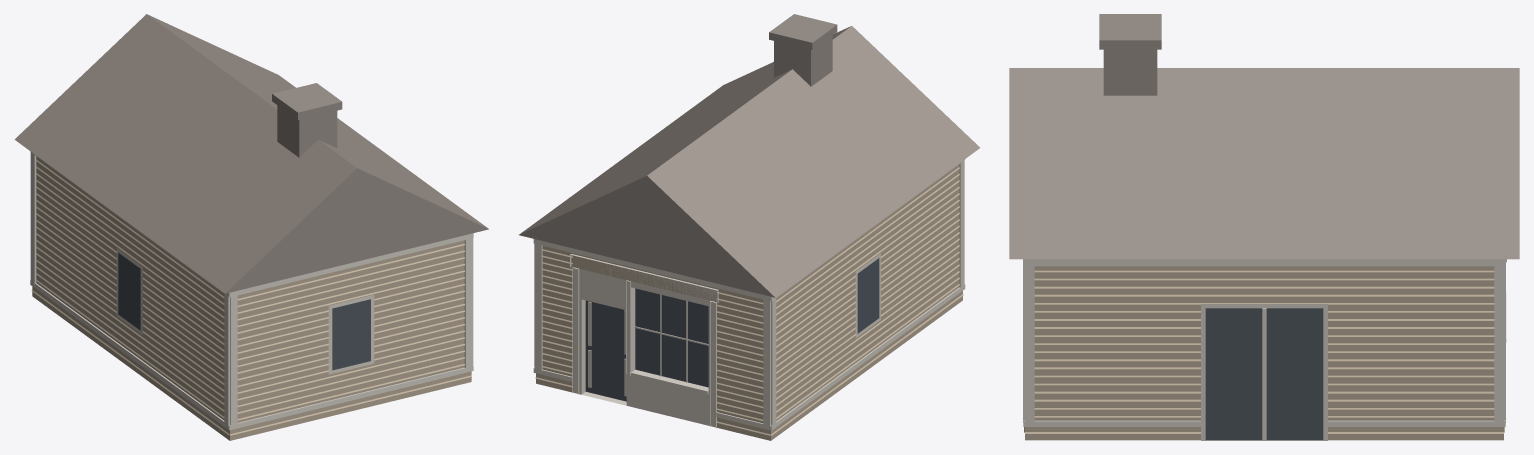
The model's file is recon_1835_south_c1_018__inferred_1835.glb.
The picture shows the model from 3 angles, left to right: view 1: azimuth 30°, elevation 25°; view 2: azimuth 150°, elevation 25°; view 3: azimuth 270°, elevation 25°; orthographic projection. The views are drawn at different scales.
Parts seen in each view (by area): view 1: recon_1835_south_c1_018__inferred_1835; view 2: recon_1835_south_c1_018__inferred_1835; view 3: recon_1835_south_c1_018__inferred_1835.
Part boxes in pixels (left/top/right/bottom): recon_1835_south_c1_018__inferred_1835: left=14, top=14, right=488, bottom=440; recon_1835_south_c1_018__inferred_1835: left=519, top=14, right=980, bottom=440; recon_1835_south_c1_018__inferred_1835: left=1009, top=14, right=1519, bottom=440.
Size of the model in its own units: 5.81 by 5.92 by 8.02.
